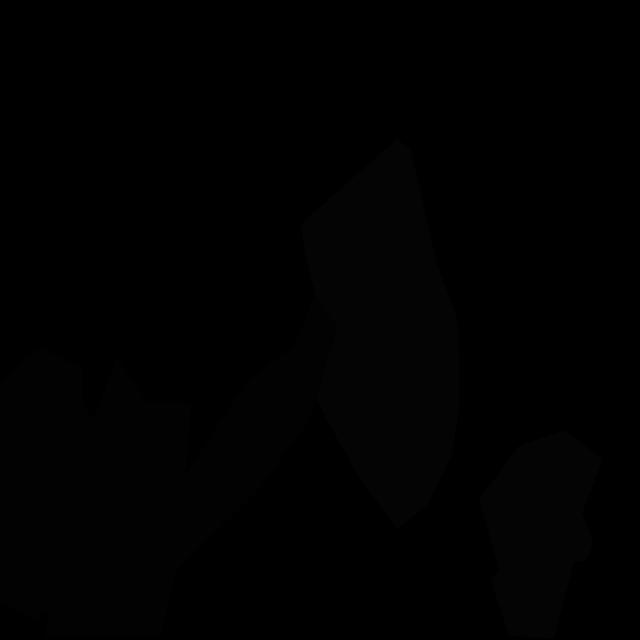cardboard: (0, 295, 337, 637)
soft_plastic: (301, 139, 460, 528), (479, 430, 602, 639)
